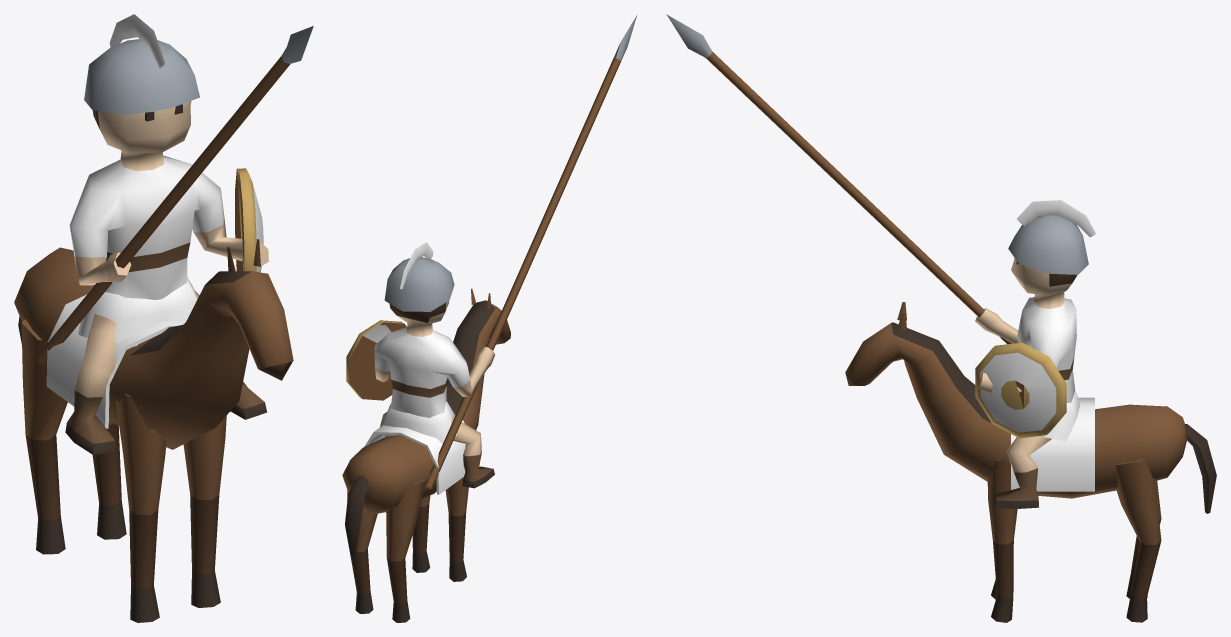
Rendered from cav.glb.
3 renders of one model, left to right at view 1: azimuth 30°, elevation 25°; view 2: azimuth 150°, elevation 25°; view 3: azimuth 270°, elevation 25°, orthographic. The views are drawn at different scales.
Parts seen in each view (by area): view 1: cav; view 2: cav; view 3: cav.
Boxes of the visible parts, <box> form: cav: <box>14,14,313,622</box>; cav: <box>342,15,637,622</box>; cav: <box>666,14,1216,622</box>.
Bounding box in the file's own units: 0.9054 × 3.25 × 2.88.
